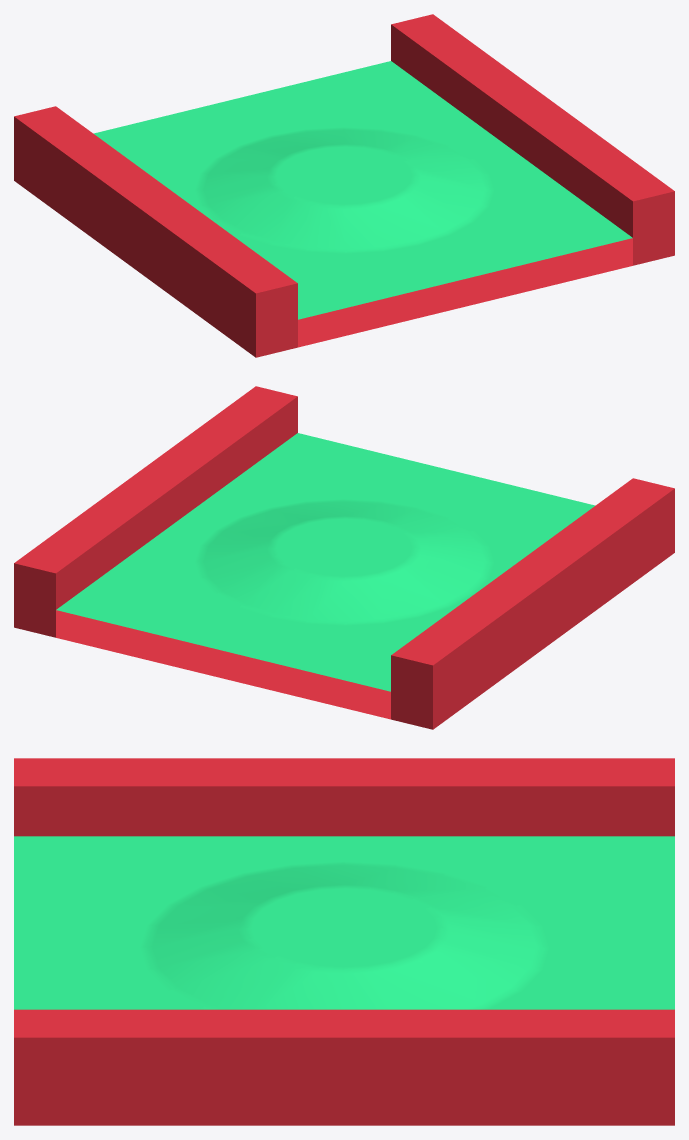
The model's file is bumpWalls.fbx.
3 renders of one model, top to bottom at view 1: azimuth 30°, elevation 25°; view 2: azimuth 150°, elevation 25°; view 3: azimuth 270°, elevation 25°, orthographic. The views are drawn at different scales.
Visible parts, largest first — view 1: bumpWalls; view 2: bumpWalls; view 3: bumpWalls.
Boxes of the visible parts, x1,y1,x2,y2 form: bumpWalls: (14, 14, 674, 357); bumpWalls: (14, 386, 674, 729); bumpWalls: (14, 758, 674, 1125).
Size of the model in its own units: 99.99 by 99.99 by 14.67.
